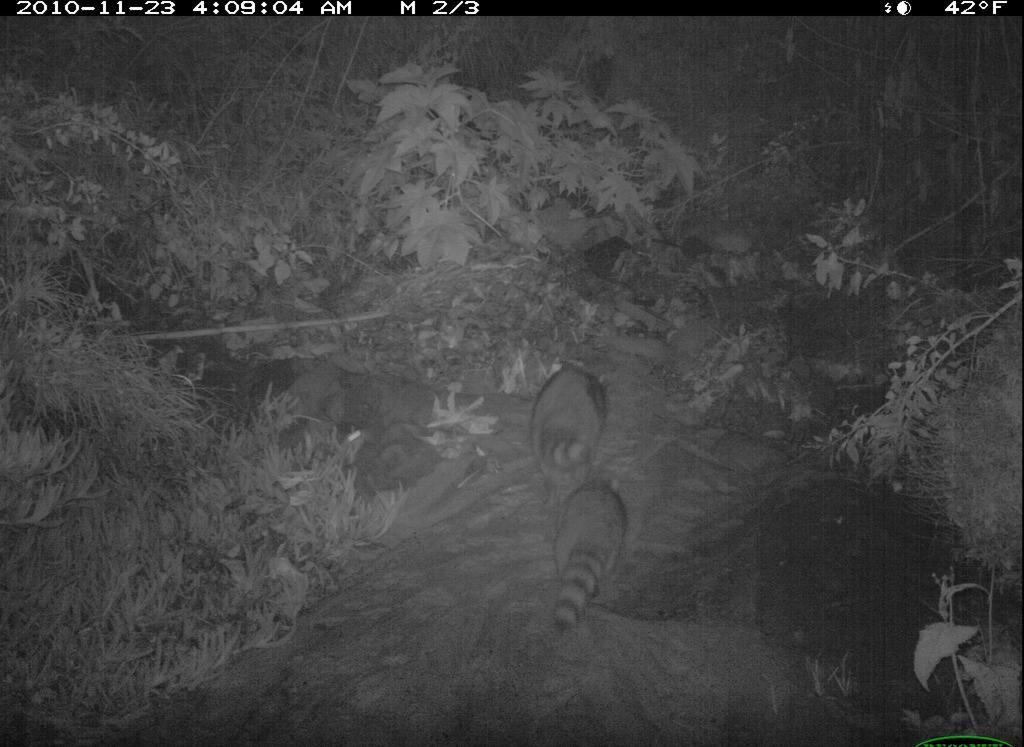raccoon: (541, 472, 637, 639), (527, 363, 610, 478)
